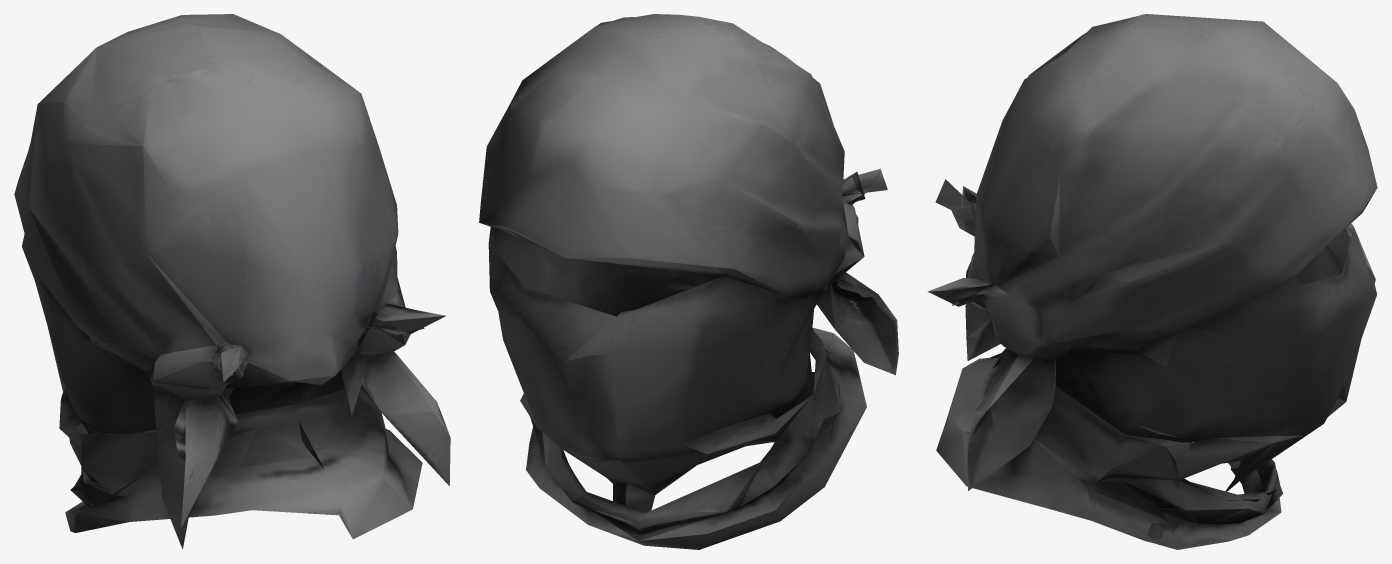
File: mascara_camisa_cinza.glb
3 views of the same model, side by side, from view 1: azimuth 30°, elevation 25°; view 2: azimuth 150°, elevation 25°; view 3: azimuth 270°, elevation 25° (orthographic). The views are drawn at different scales.
Visible parts, largest first — view 1: tripo_node_5f62da32-5409-4c22-9515-f3fc26010b49; view 2: tripo_node_5f62da32-5409-4c22-9515-f3fc26010b49; view 3: tripo_node_5f62da32-5409-4c22-9515-f3fc26010b49.
Boxes of the visible parts, left/top/right/bottom form: tripo_node_5f62da32-5409-4c22-9515-f3fc26010b49: left=14, top=14, right=450, bottom=549; tripo_node_5f62da32-5409-4c22-9515-f3fc26010b49: left=479, top=14, right=898, bottom=549; tripo_node_5f62da32-5409-4c22-9515-f3fc26010b49: left=927, top=14, right=1377, bottom=549.
Bounding box in the file's own units: 0.6637 × 0.9922 × 0.8295.
Materials: 1 (1 with a texture image).
